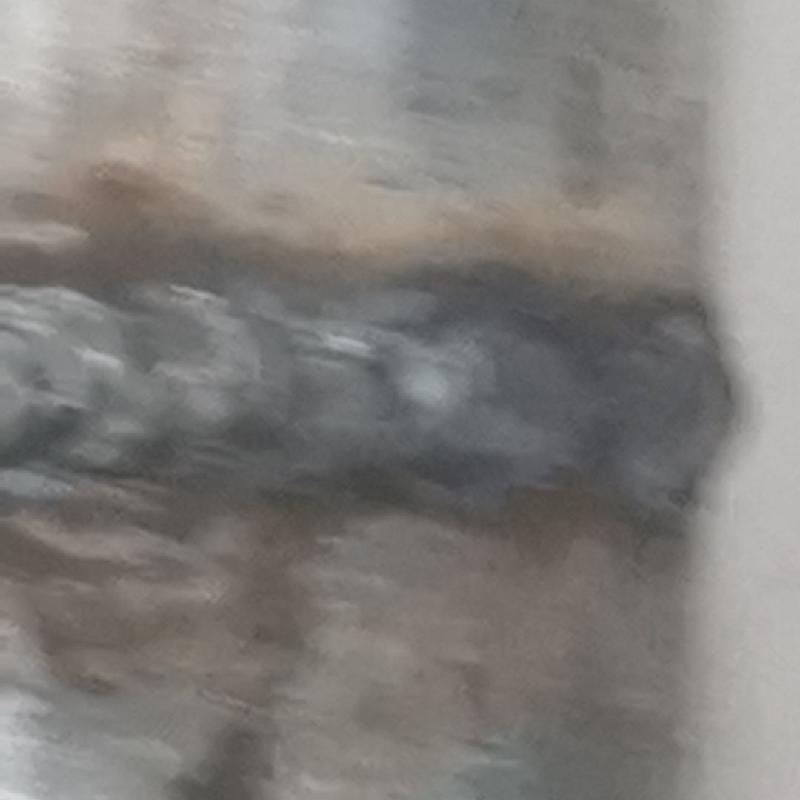good: (2, 268, 746, 515)
